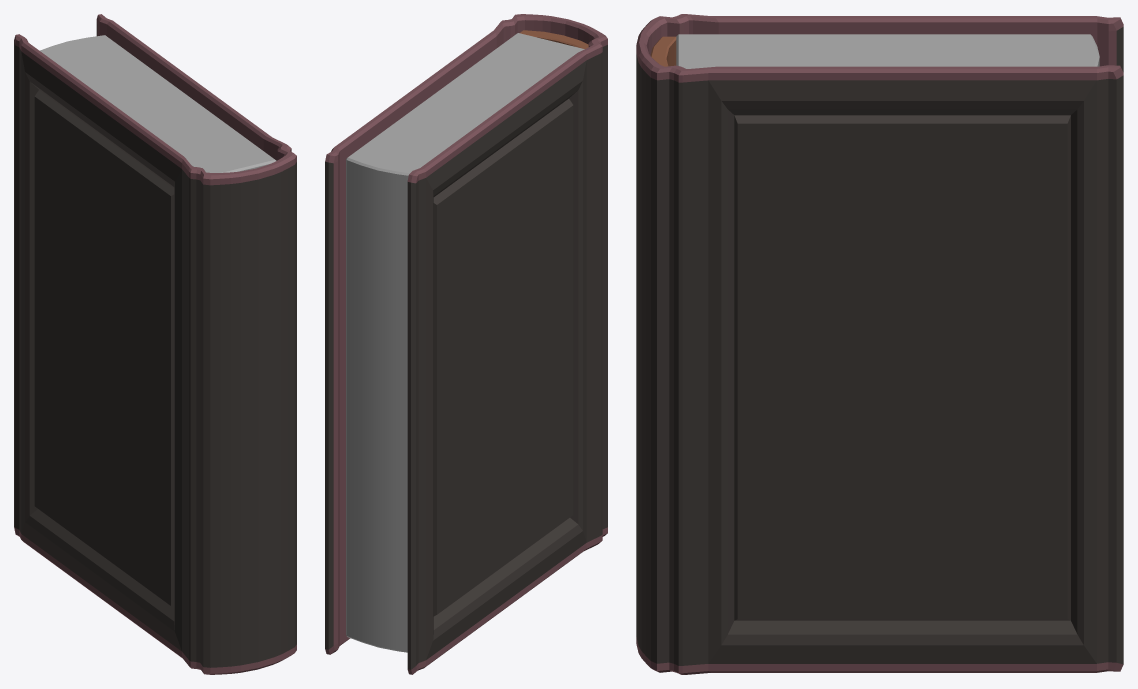
The model's file is Book_A.fbx.
3 renders of one model, left to right at view 1: azimuth 30°, elevation 25°; view 2: azimuth 150°, elevation 25°; view 3: azimuth 270°, elevation 25°, orthographic. The views are drawn at different scales.
Parts seen in each view (by area): view 1: BookC; view 2: BookC; view 3: BookC.
Boxes of the visible parts, x1,y1,x2,y2 form: BookC: (14,14,296,674); BookC: (325,14,607,674); BookC: (636,14,1123,674).
Bounding box in the file's own units: 0.1365 × 0.6458 × 0.4723.
